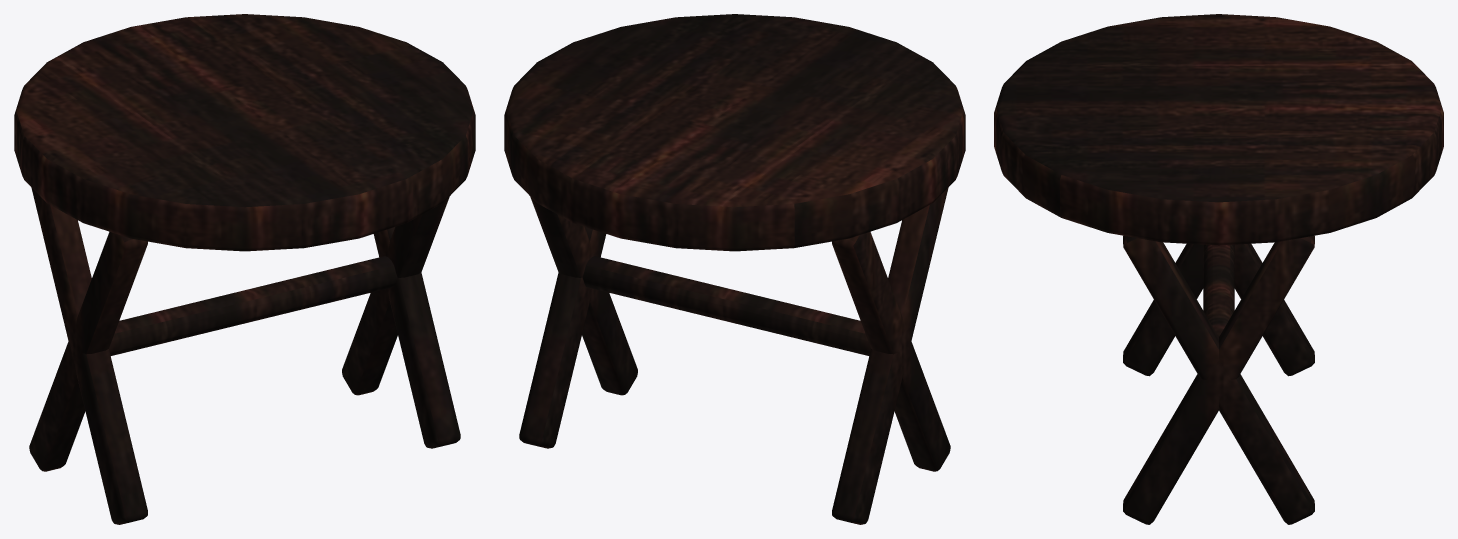
The model's file is Antique_Chair_15.fbx.
The picture shows the model from 3 angles, left to right: view 1: azimuth 30°, elevation 25°; view 2: azimuth 150°, elevation 25°; view 3: azimuth 270°, elevation 25°; orthographic projection. The views are drawn at different scales.
Parts seen in each view (by area): view 1: Antique_Chair; view 2: Antique_Chair; view 3: Antique_Chair.
Boxes of the visible parts, x1,y1,x2,y2 form: Antique_Chair: (14, 14, 475, 524); Antique_Chair: (504, 14, 965, 524); Antique_Chair: (994, 14, 1443, 524).
Bounding box in the file's own units: 0.5244 × 0.4377 × 0.5244.
Materials: 1 (1 with a texture image).
